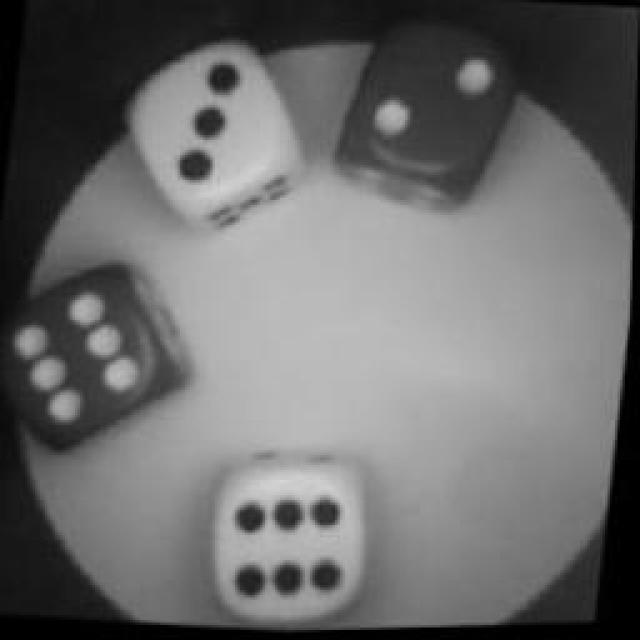dice_2: (333, 18, 525, 212)
dice_3: (117, 36, 305, 219)
dice_6: (0, 261, 195, 454), (208, 455, 378, 633)
